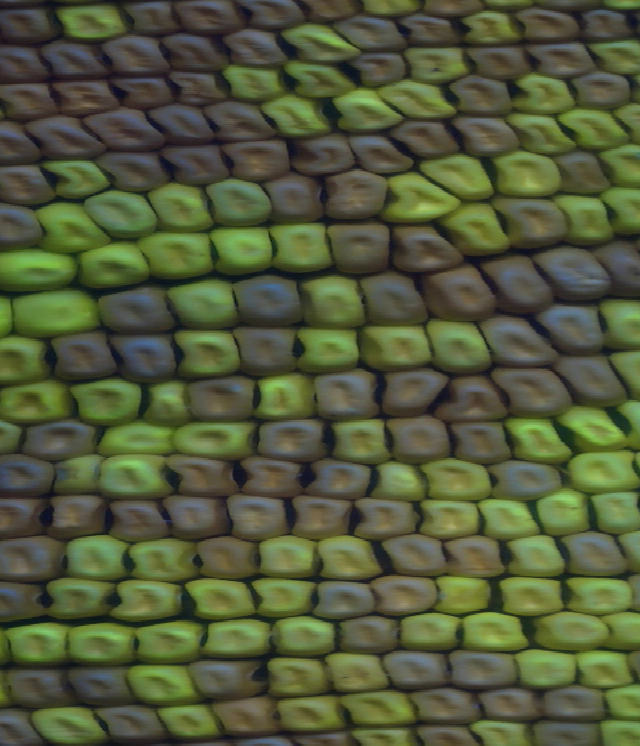fluorescent: (159, 271, 249, 335), (418, 311, 499, 382), (8, 283, 108, 340), (28, 197, 119, 259), (377, 167, 468, 228), (293, 268, 375, 335), (78, 185, 168, 245), (435, 195, 518, 260), (166, 325, 253, 385), (130, 229, 223, 285), (274, 17, 372, 70), (353, 320, 445, 375), (247, 369, 328, 430), (0, 241, 88, 297), (200, 221, 282, 280), (373, 75, 466, 127), (549, 189, 623, 254), (92, 450, 181, 504), (144, 177, 221, 239), (126, 616, 216, 669), (63, 373, 145, 431), (56, 529, 135, 589), (415, 148, 498, 205), (488, 148, 571, 204), (123, 533, 209, 587), (73, 237, 153, 295), (498, 528, 578, 586), (119, 660, 208, 712), (499, 107, 583, 162), (106, 576, 193, 629), (60, 618, 147, 671), (200, 174, 278, 233), (0, 617, 79, 675), (498, 412, 578, 469), (263, 220, 340, 279), (325, 413, 402, 472), (291, 323, 372, 378), (176, 574, 263, 625), (38, 574, 125, 625), (309, 531, 388, 587), (35, 155, 120, 207), (417, 454, 498, 508), (168, 418, 261, 465), (253, 530, 332, 585), (456, 605, 535, 660), (0, 375, 80, 429), (557, 403, 635, 458), (336, 685, 427, 732), (244, 572, 324, 625), (326, 85, 408, 136), (469, 495, 546, 549), (257, 651, 340, 701), (91, 415, 182, 460), (277, 56, 366, 102), (534, 606, 614, 657), (24, 702, 116, 746), (264, 614, 344, 664), (271, 690, 356, 737), (408, 494, 486, 545), (533, 483, 598, 544), (561, 447, 640, 497), (49, 2, 133, 49), (196, 615, 280, 662), (318, 650, 400, 698), (493, 572, 571, 622), (394, 608, 470, 659), (507, 69, 583, 120), (361, 455, 433, 508), (424, 568, 497, 620), (257, 93, 334, 142), (215, 60, 293, 108), (562, 572, 640, 620), (512, 645, 587, 693), (137, 375, 200, 432), (151, 700, 229, 746), (552, 105, 633, 149), (399, 43, 476, 88), (569, 644, 638, 694), (44, 449, 112, 498), (0, 331, 57, 389), (456, 5, 523, 53), (592, 290, 640, 353), (582, 33, 640, 84), (587, 487, 640, 540), (594, 139, 640, 197), (594, 182, 640, 239), (465, 713, 538, 746), (605, 340, 640, 406), (348, 721, 427, 746), (598, 679, 640, 725), (598, 608, 640, 653), (607, 99, 640, 152), (593, 715, 640, 746)
nonfluorescent: (478, 247, 562, 319), (418, 257, 503, 327), (382, 218, 473, 283), (486, 190, 576, 255), (91, 280, 183, 343), (529, 241, 618, 305), (226, 270, 312, 335), (486, 363, 580, 422), (473, 309, 567, 368), (322, 212, 400, 281), (355, 265, 435, 332), (531, 299, 613, 362), (80, 103, 174, 157), (19, 111, 113, 165), (549, 351, 632, 412), (253, 412, 340, 470), (227, 320, 308, 381), (181, 654, 276, 706), (58, 657, 144, 714), (380, 409, 461, 469), (375, 363, 457, 422), (154, 135, 236, 194), (378, 526, 456, 588), (0, 662, 87, 717), (427, 371, 514, 426), (182, 369, 263, 428), (319, 164, 397, 225), (103, 329, 183, 388), (307, 364, 384, 425), (340, 126, 422, 183), (153, 488, 233, 546), (403, 680, 491, 732), (159, 450, 248, 501), (93, 145, 177, 199), (348, 493, 426, 551), (218, 490, 300, 545), (199, 95, 284, 148), (232, 449, 312, 505), (259, 168, 331, 230), (443, 643, 527, 696), (17, 414, 102, 466), (95, 32, 178, 85), (100, 494, 178, 550), (48, 327, 122, 386), (328, 10, 415, 60), (0, 530, 77, 586), (483, 455, 567, 506), (203, 692, 288, 742), (287, 487, 357, 547), (363, 571, 447, 621), (219, 135, 298, 188), (555, 527, 634, 580), (85, 699, 174, 746), (144, 99, 223, 151), (438, 529, 511, 585), (376, 645, 457, 695), (444, 416, 516, 472), (446, 111, 526, 161), (443, 71, 523, 121), (40, 490, 112, 545), (300, 454, 376, 506), (290, 130, 363, 184), (192, 532, 265, 586), (219, 24, 295, 75), (519, 37, 603, 83), (38, 37, 114, 87), (547, 145, 616, 200), (384, 116, 464, 163), (158, 29, 234, 78), (307, 577, 381, 627), (104, 68, 179, 117), (535, 680, 614, 726), (47, 74, 125, 120), (471, 682, 547, 729), (333, 612, 407, 660), (566, 65, 637, 115), (589, 235, 640, 303), (0, 158, 64, 211), (460, 41, 535, 86), (0, 448, 62, 502), (167, 1, 250, 41), (0, 575, 57, 633), (163, 65, 234, 111), (341, 48, 414, 92), (394, 10, 466, 54), (0, 193, 50, 256), (0, 40, 63, 89), (512, 3, 583, 46), (0, 1, 62, 49), (0, 78, 63, 125), (0, 491, 53, 544), (576, 5, 640, 48), (230, 1, 308, 36), (120, 1, 190, 39), (524, 716, 608, 746), (0, 119, 48, 171), (0, 704, 56, 746), (406, 718, 484, 746)
